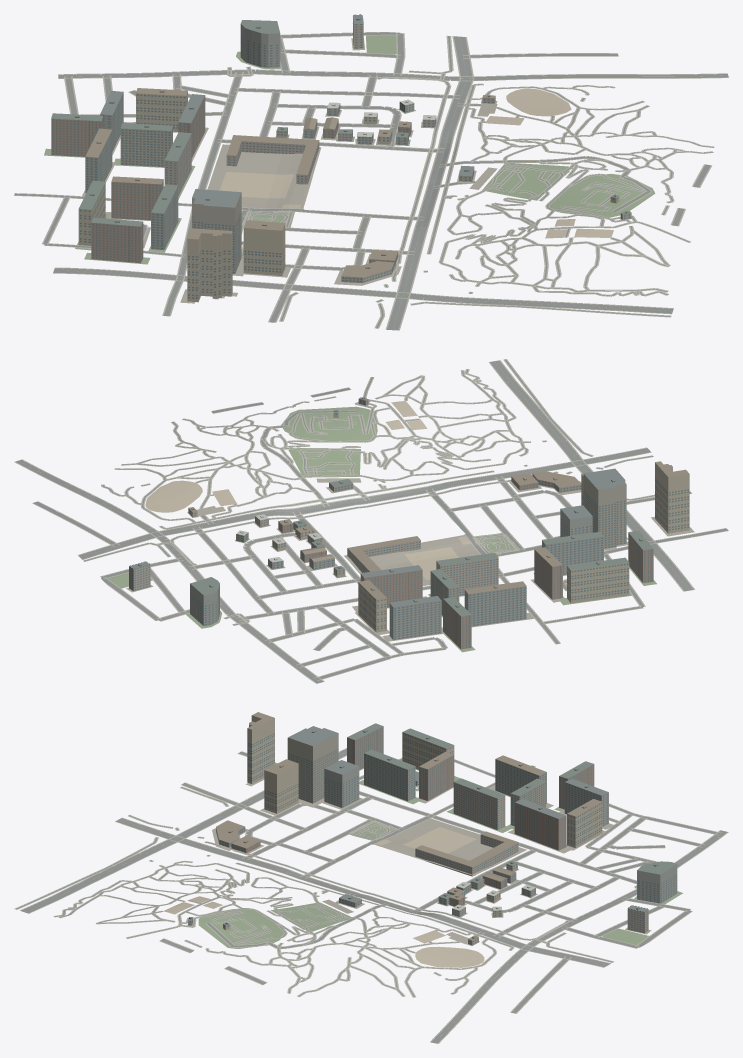
3 views of the same model, one above another, from view 1: azimuth 30°, elevation 25°; view 2: azimuth 150°, elevation 25°; view 3: azimuth 270°, elevation 25° (orthographic). The views are drawn at different scales.
Visible parts, largest first — view 1: context-osm-buildings, context-osm-sidewalks, context-osm-roads, context-building-plinths; view 2: context-osm-buildings, context-osm-sidewalks, context-osm-roads, context-building-plinths; view 3: context-osm-buildings, context-osm-sidewalks, context-osm-roads, context-building-plinths.
Boxes of the visible parts, x1,y1,x2,y2 form: context-osm-buildings: [51, 14, 631, 302]; context-osm-sidewalks: [14, 32, 728, 330]; context-osm-roads: [14, 32, 728, 330]; context-building-plinths: [44, 35, 655, 303]; context-osm-buildings: [129, 397, 689, 649]; context-osm-sidewalks: [14, 359, 728, 683]; context-osm-roads: [15, 359, 728, 683]; context-building-plinths: [107, 401, 694, 652]; context-osm-buildings: [188, 712, 677, 945]; context-osm-sidewalks: [14, 748, 728, 1043]; context-osm-roads: [15, 749, 727, 1043]; context-building-plinths: [163, 768, 682, 967].
Bounding box in the file's own units: 858 × 83.44 × 857.
